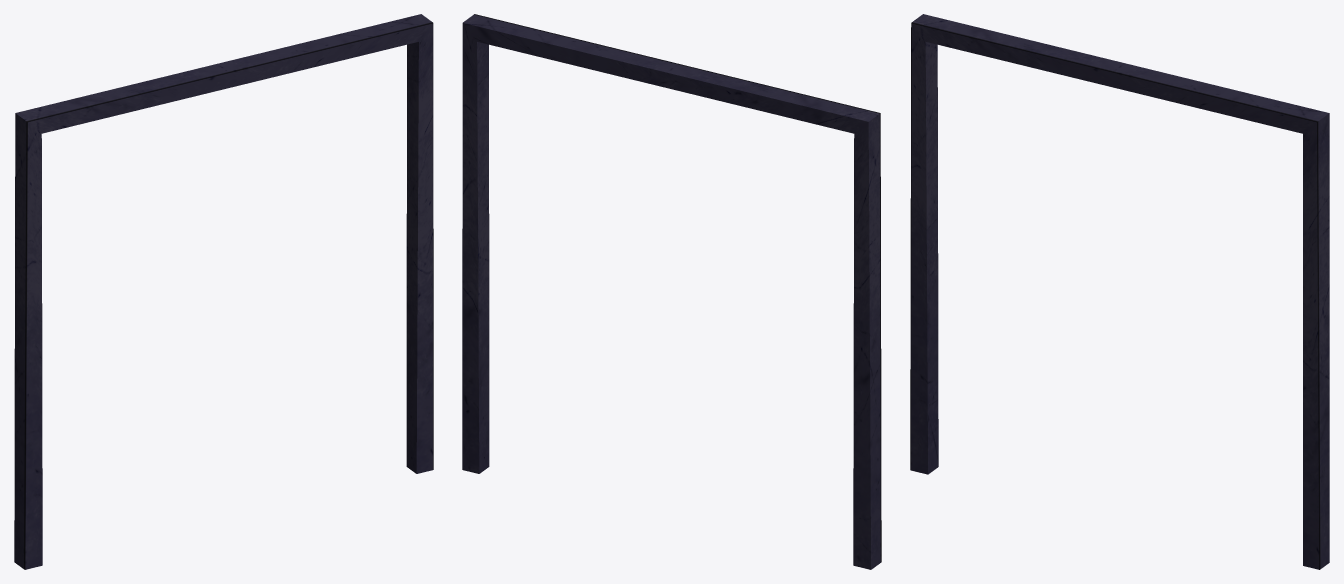
Rendered from MARCO_PERSIANA.fbx.
3 views of the same model, side by side, from view 1: azimuth 30°, elevation 25°; view 2: azimuth 150°, elevation 25°; view 3: azimuth 330°, elevation 25° (orthographic).
Parts seen in each view (by area): view 1: Plane.017; view 2: Plane.017; view 3: Plane.017.
Part boxes in pixels (bbox=[...]): Plane.017: bbox=[14, 14, 433, 569]; Plane.017: bbox=[462, 14, 881, 569]; Plane.017: bbox=[910, 14, 1329, 569].
Bounding box in the file's own units: 389 × 407 × 19.8.
